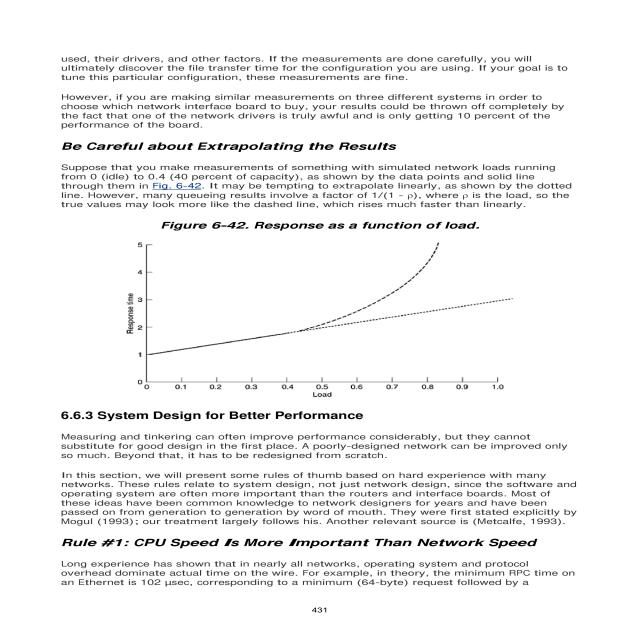diagram: (124, 208, 590, 404)
